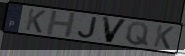H: (45, 10, 78, 39)
J: (76, 16, 99, 40)
K: (152, 24, 176, 51), (24, 7, 47, 34)
Q: (125, 21, 150, 48)
V: (101, 16, 129, 44)
